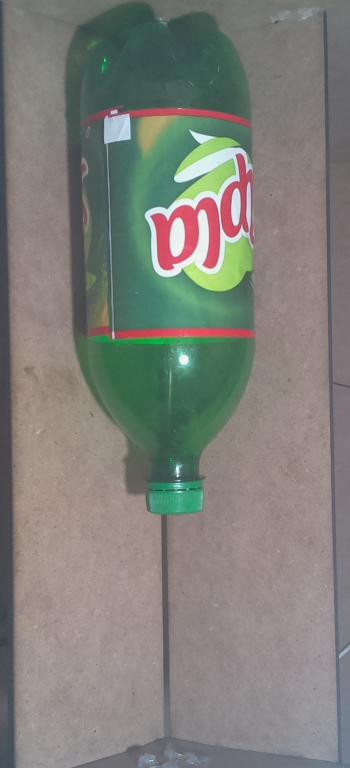Bouteille_1L: (72, 15, 266, 522)
